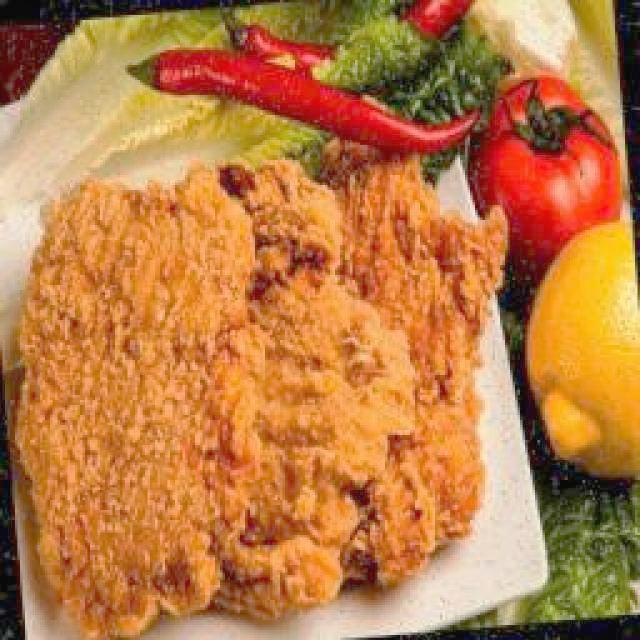fried_chicken: (15, 162, 507, 640)
